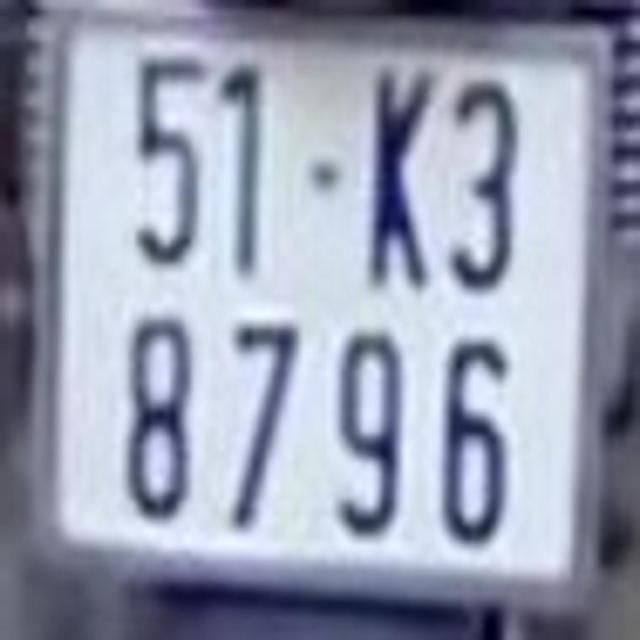1: (211, 56, 272, 276)
3: (449, 74, 517, 288)
5: (130, 50, 204, 265)
6: (434, 328, 508, 549)
7: (228, 314, 301, 536)
8: (127, 312, 193, 524)
9: (336, 324, 404, 534)
K: (367, 50, 430, 289)
